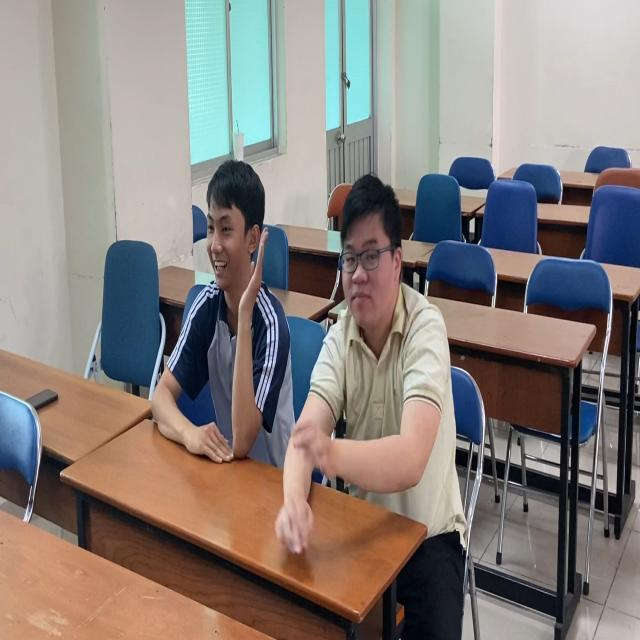raise_hand: (174, 140, 282, 481)
